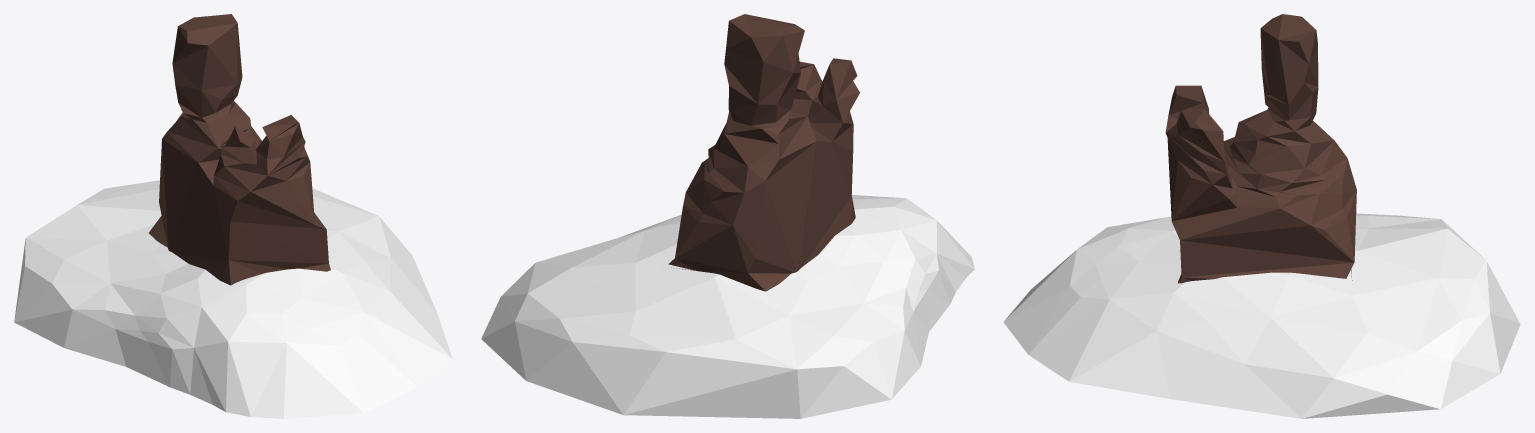
The model's file is snow_rock_001.fbx.
3 renders of one model, left to right at view 1: azimuth 30°, elevation 25°; view 2: azimuth 150°, elevation 25°; view 3: azimuth 270°, elevation 25°, orthographic. The views are drawn at different scales.
Parts seen in each view (by area): view 1: snow_rock_001; view 2: snow_rock_001; view 3: snow_rock_001.
Part boxes in pixels (left/top/right/bottom): snow_rock_001: left=14, top=14, right=452, bottom=418; snow_rock_001: left=481, top=14, right=974, bottom=418; snow_rock_001: left=1003, top=14, right=1520, bottom=418.
Size of the model in its own units: 1849 by 2249 by 1390.
